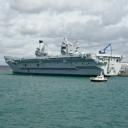Portanaves: (4, 32, 124, 79)
